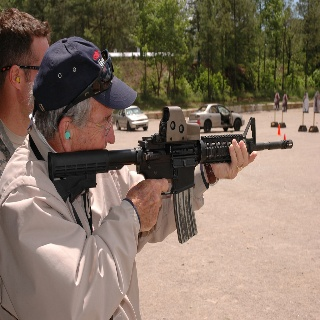rifle: (47, 103, 294, 248)
